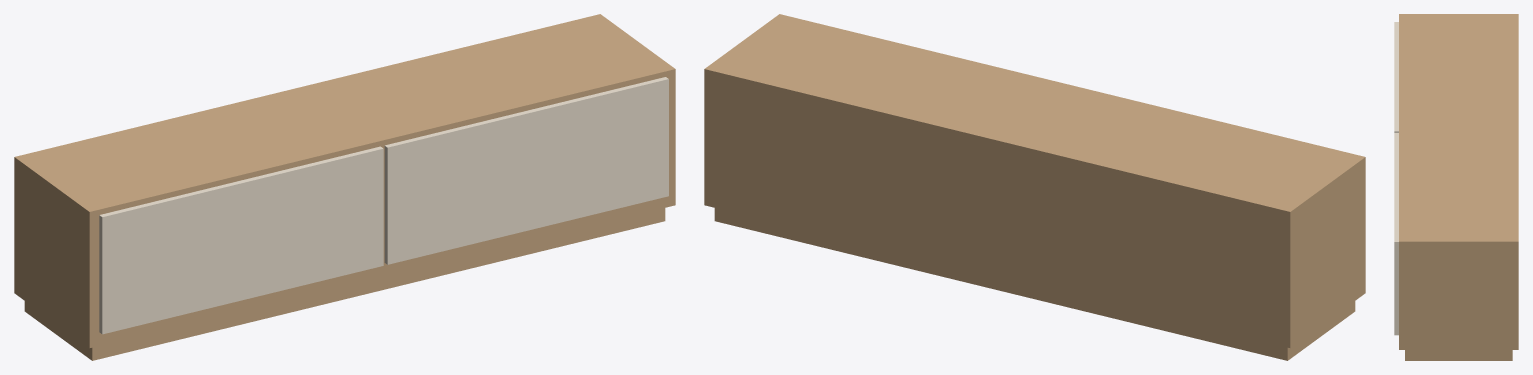
File: mocan-81.glb
The picture shows the model from 3 angles, left to right: view 1: azimuth 30°, elevation 25°; view 2: azimuth 150°, elevation 25°; view 3: azimuth 270°, elevation 25°; orthographic projection. The views are drawn at different scales.
Parts seen in each view (by area): view 1: furniture; view 2: furniture; view 3: furniture.
Part boxes in pixels (x1,y1,x2,y2): furniture: (14, 14, 675, 360); furniture: (704, 14, 1365, 360); furniture: (1394, 14, 1518, 360).
Bounding box in the file's own units: 1.8 × 0.45 × 0.416.
